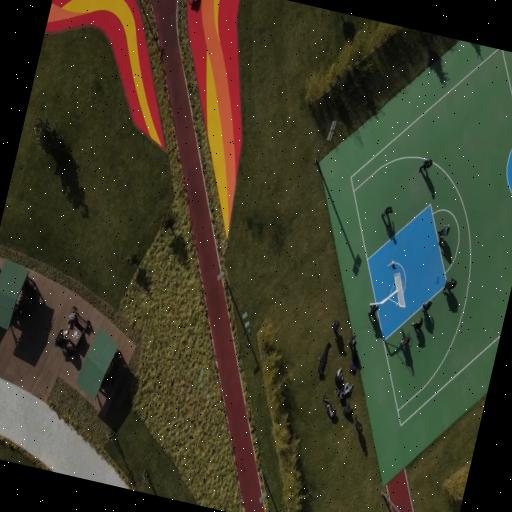person: (318, 343, 330, 380), (323, 395, 336, 418), (339, 383, 353, 400), (439, 225, 450, 243), (341, 383, 354, 398), (443, 278, 456, 292), (419, 160, 432, 173), (335, 368, 343, 387), (343, 404, 353, 418), (354, 416, 362, 433), (327, 404, 336, 419), (413, 318, 423, 331), (369, 304, 379, 317), (68, 312, 76, 328), (349, 359, 357, 375), (348, 336, 356, 352), (381, 207, 392, 218), (422, 300, 432, 312), (399, 337, 409, 349), (332, 320, 340, 333)
